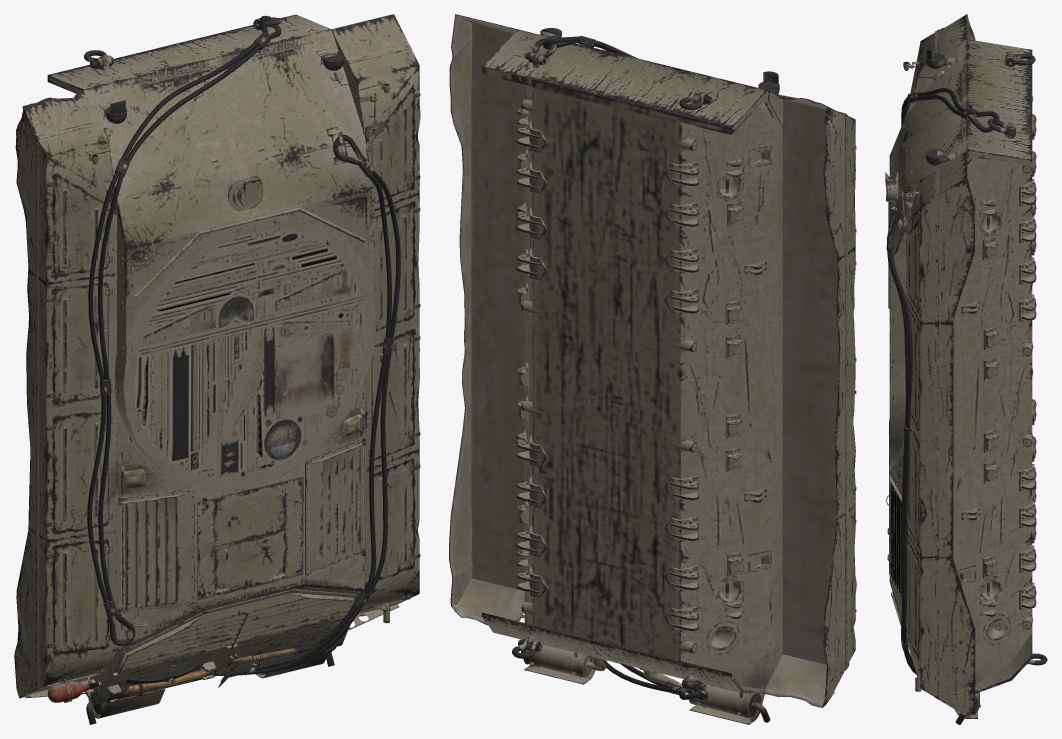
Rendered from Hull.glb.
3 renders of one model, left to right at view 1: azimuth 30°, elevation 25°; view 2: azimuth 150°, elevation 25°; view 3: azimuth 270°, elevation 25°, orthographic. The views are drawn at different scales.
Parts seen in each view (by area): view 1: set_0_group_0; view 2: set_0_group_0; view 3: set_0_group_0.
Part boxes in pixels (<box>): set_0_group_0: <box>14,14,420,724</box>; set_0_group_0: <box>449,14,856,724</box>; set_0_group_0: <box>885,14,1047,724</box>.
Bounding box in the file's own units: 2.93 × 4.8 × 1.2.
1 material, 1 textured.
